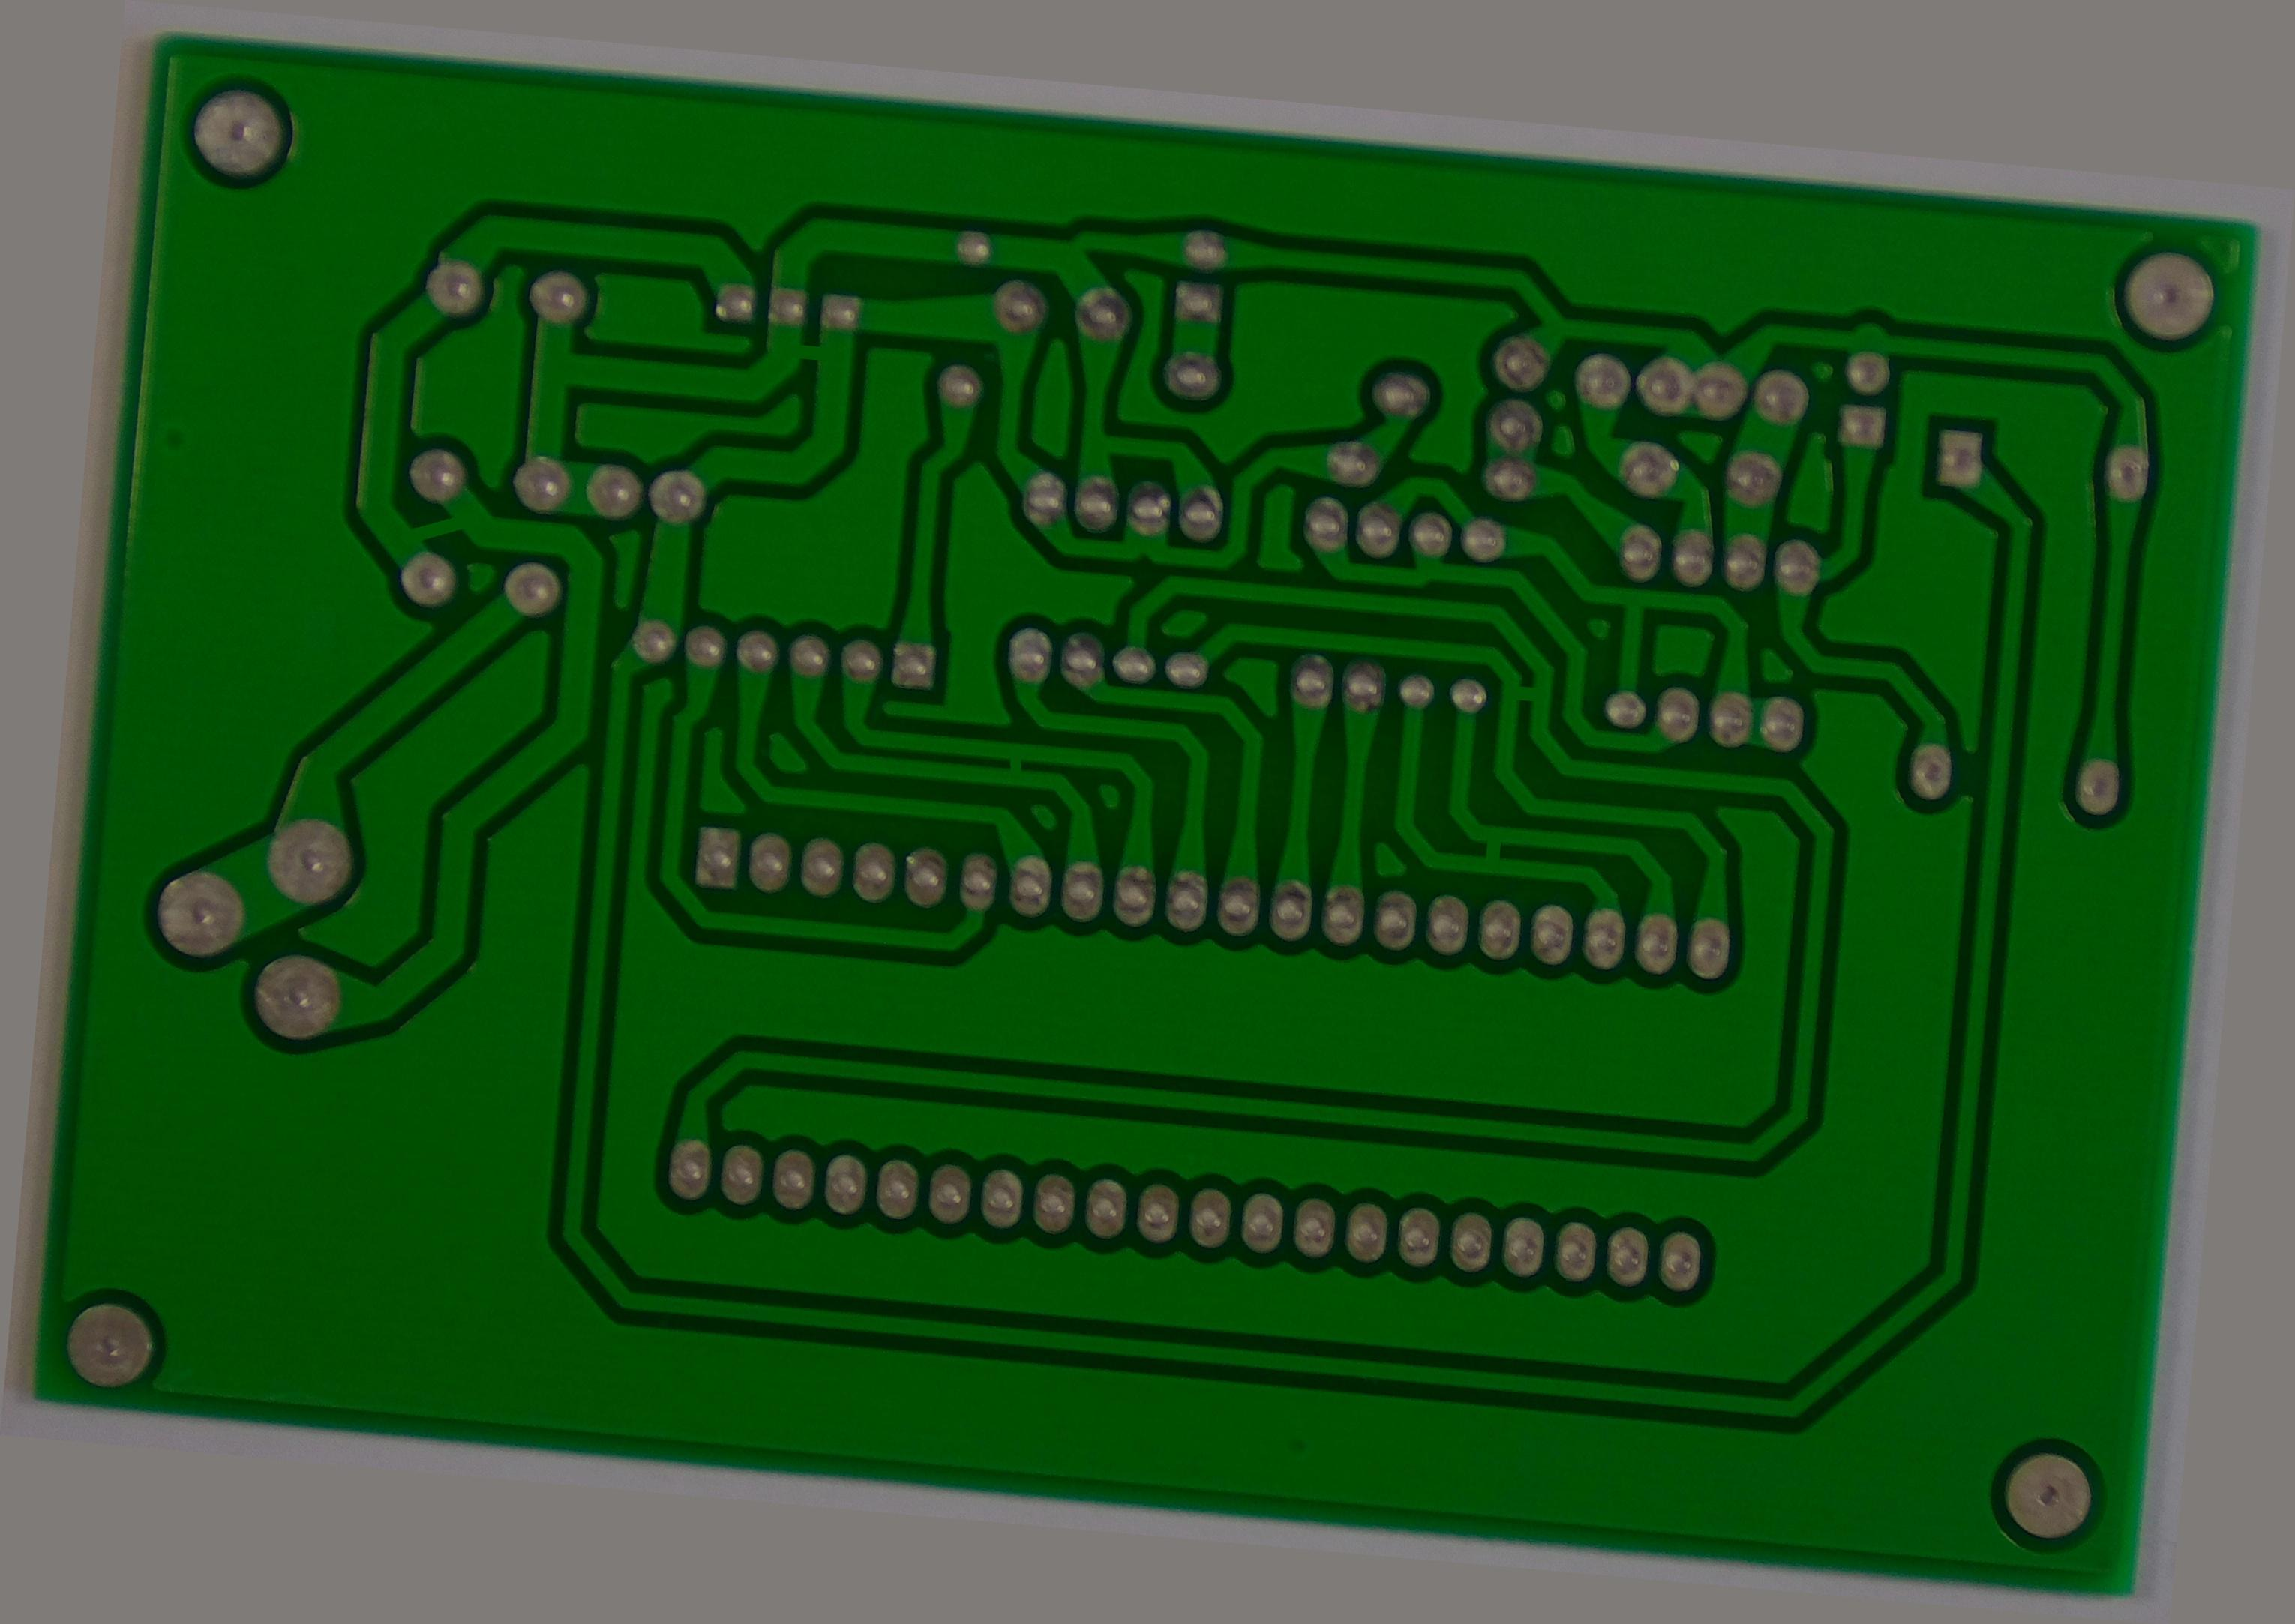short: (374, 490, 487, 580), (1450, 812, 1529, 884), (768, 322, 851, 383), (1490, 661, 1562, 726), (981, 729, 1046, 798)
